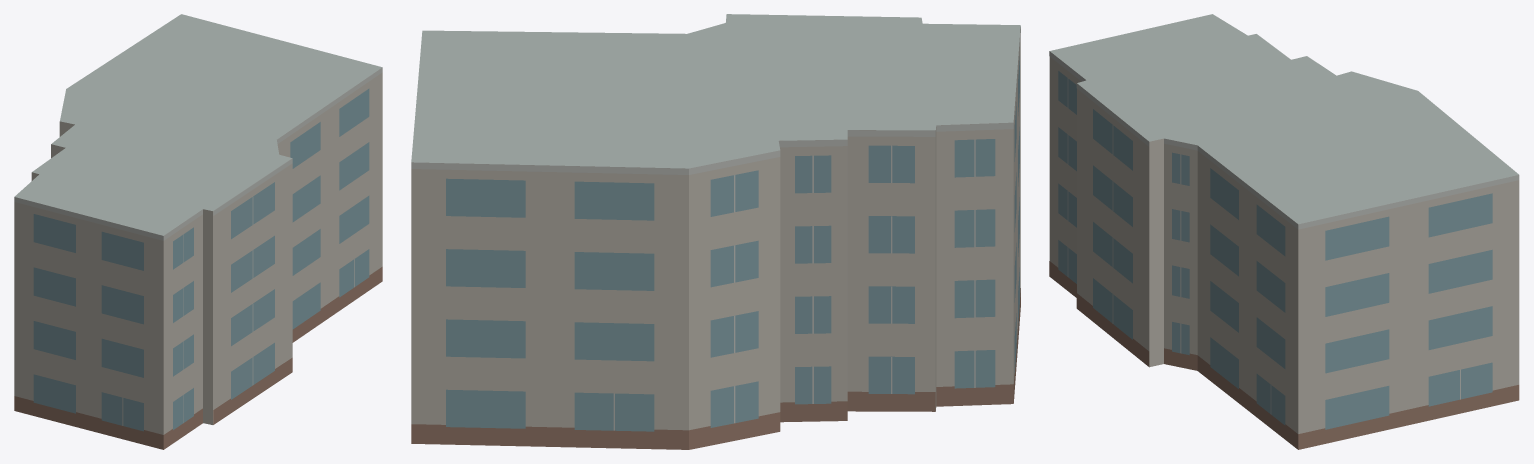
Rendered from survey-upis-33028318.glb.
3 renders of one model, left to right at view 1: azimuth 30°, elevation 25°; view 2: azimuth 150°, elevation 25°; view 3: azimuth 270°, elevation 25°, orthographic. The views are drawn at different scales.
Visible parts, largest first — view 1: survey-upis-33028318.tmp; view 2: survey-upis-33028318.tmp; view 3: survey-upis-33028318.tmp.
Boxes of the visible parts, <box> form: survey-upis-33028318.tmp: <box>14,14,382,449</box>; survey-upis-33028318.tmp: <box>411,14,1020,449</box>; survey-upis-33028318.tmp: <box>1049,14,1519,449</box>.
Bounding box in the file's own units: 21.01 × 10.5 × 19.84.
